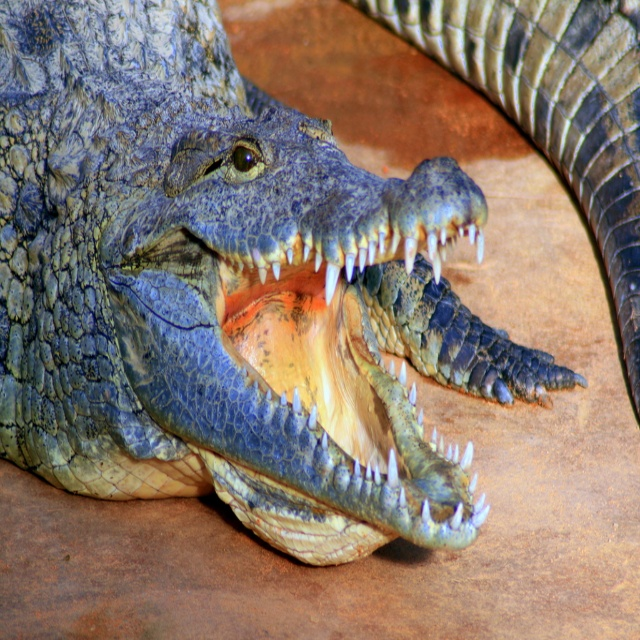Crocodile: (0, 0, 640, 561)
